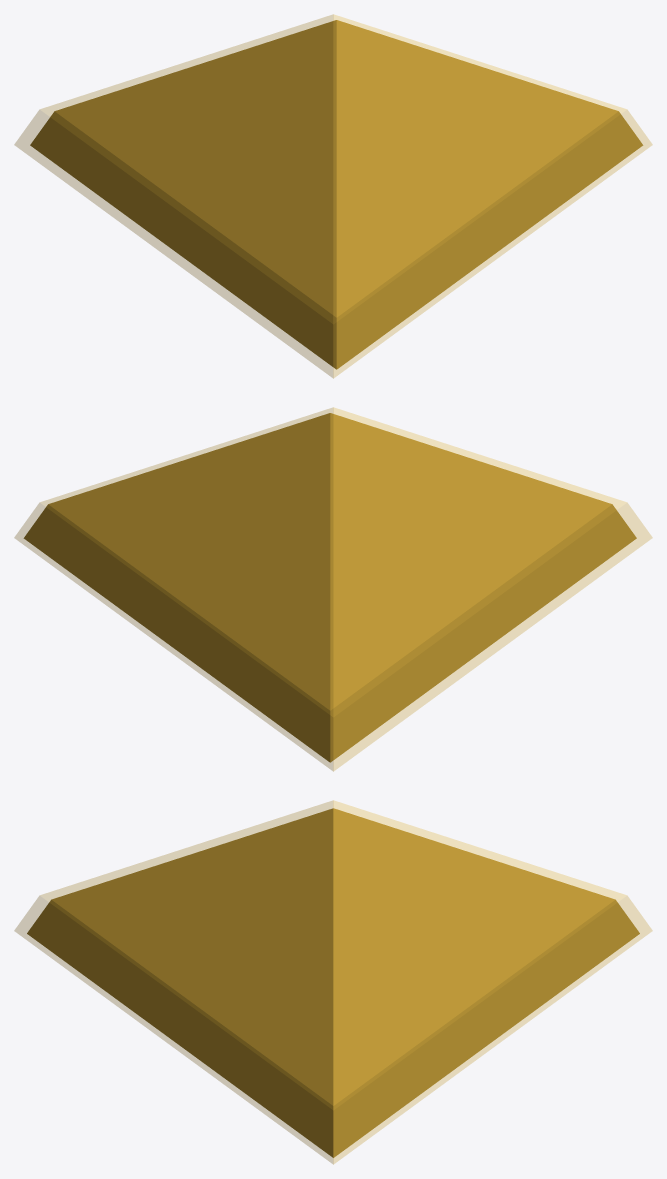
The model's file is item_gem3.glb.
The picture shows the model from 3 angles, top to bottom: view 1: azimuth 30°, elevation 25°; view 2: azimuth 150°, elevation 25°; view 3: azimuth 270°, elevation 25°; orthographic projection.
Parts seen in each view (by area): view 1: jewellery_gem3_glass, jewellery_gem3; view 2: jewellery_gem3_glass, jewellery_gem3; view 3: jewellery_gem3_glass, jewellery_gem3.
Boxes of the visible parts, <box> form: jewellery_gem3_glass: <box>14,14,652,378</box>; jewellery_gem3: <box>30,20,643,369</box>; jewellery_gem3_glass: <box>14,407,652,771</box>; jewellery_gem3: <box>23,413,636,762</box>; jewellery_gem3_glass: <box>14,800,652,1164</box>; jewellery_gem3: <box>27,808,639,1157</box>.
Bounding box in the file's own units: 0.75 × 0.48 × 0.866.
